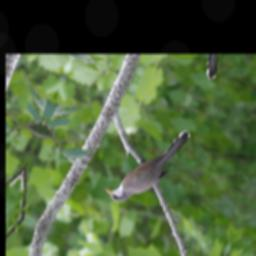Cuckoo: (100, 110, 194, 219)
